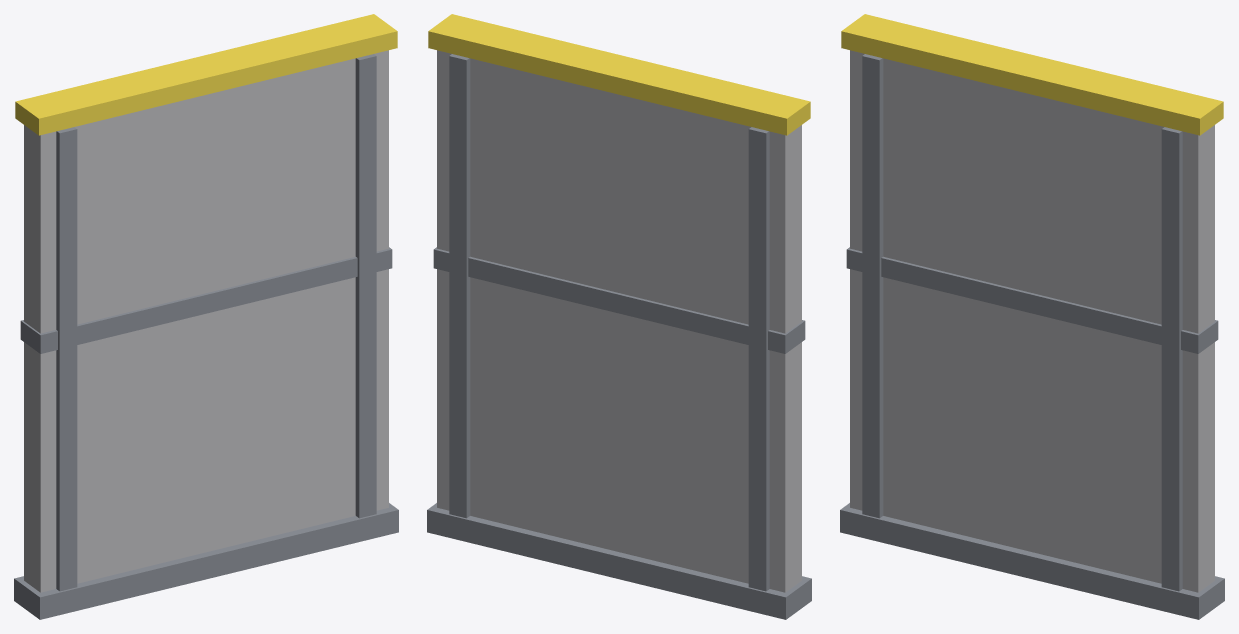
The model's file is wall_high.glb.
3 views of the same model, side by side, from view 1: azimuth 30°, elevation 25°; view 2: azimuth 150°, elevation 25°; view 3: azimuth 330°, elevation 25° (orthographic).
Parts seen in each view (by area): view 1: wall_high; view 2: wall_high; view 3: wall_high.
Part boxes in pixels (<box>): wall_high: <box>14,14,398,619</box>; wall_high: <box>427,14,811,619</box>; wall_high: <box>840,14,1224,619</box>.
Bounding box in the file's own units: 2 × 2.66 × 0.25.
